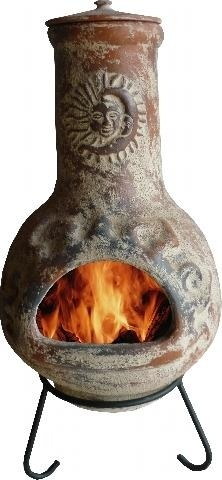fire: (38, 259, 167, 343)
